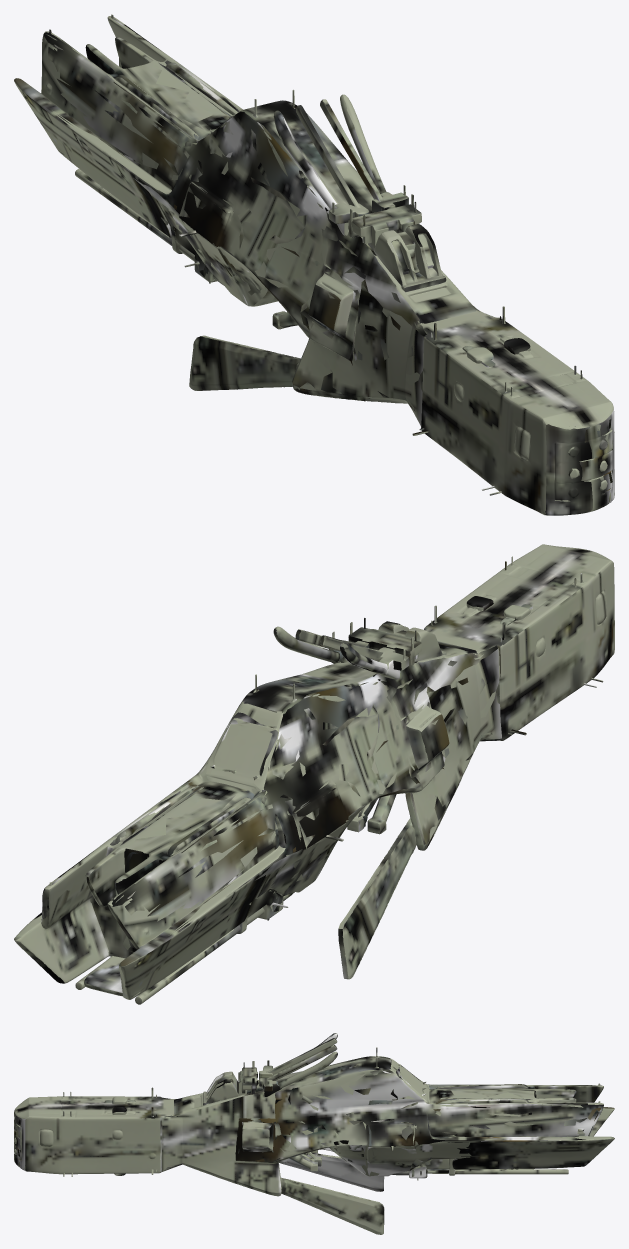
The model's file is alliance_destroyer.glb.
The picture shows the model from 3 angles, top to bottom: view 1: azimuth 30°, elevation 25°; view 2: azimuth 150°, elevation 25°; view 3: azimuth 270°, elevation 25°; orthographic projection. The views are drawn at different scales.
Visible parts, largest first — view 1: convert; view 2: convert; view 3: convert.
Part boxes in pixels (left/top/right/bottom): convert: left=14, top=14, right=614, bottom=515; convert: left=14, top=544, right=614, bottom=1004; convert: left=14, top=1033, right=614, bottom=1234.
Size of the model in its own units: 0.2136 by 0.374 by 1.19.
Materials: 1 (1 with a texture image).
